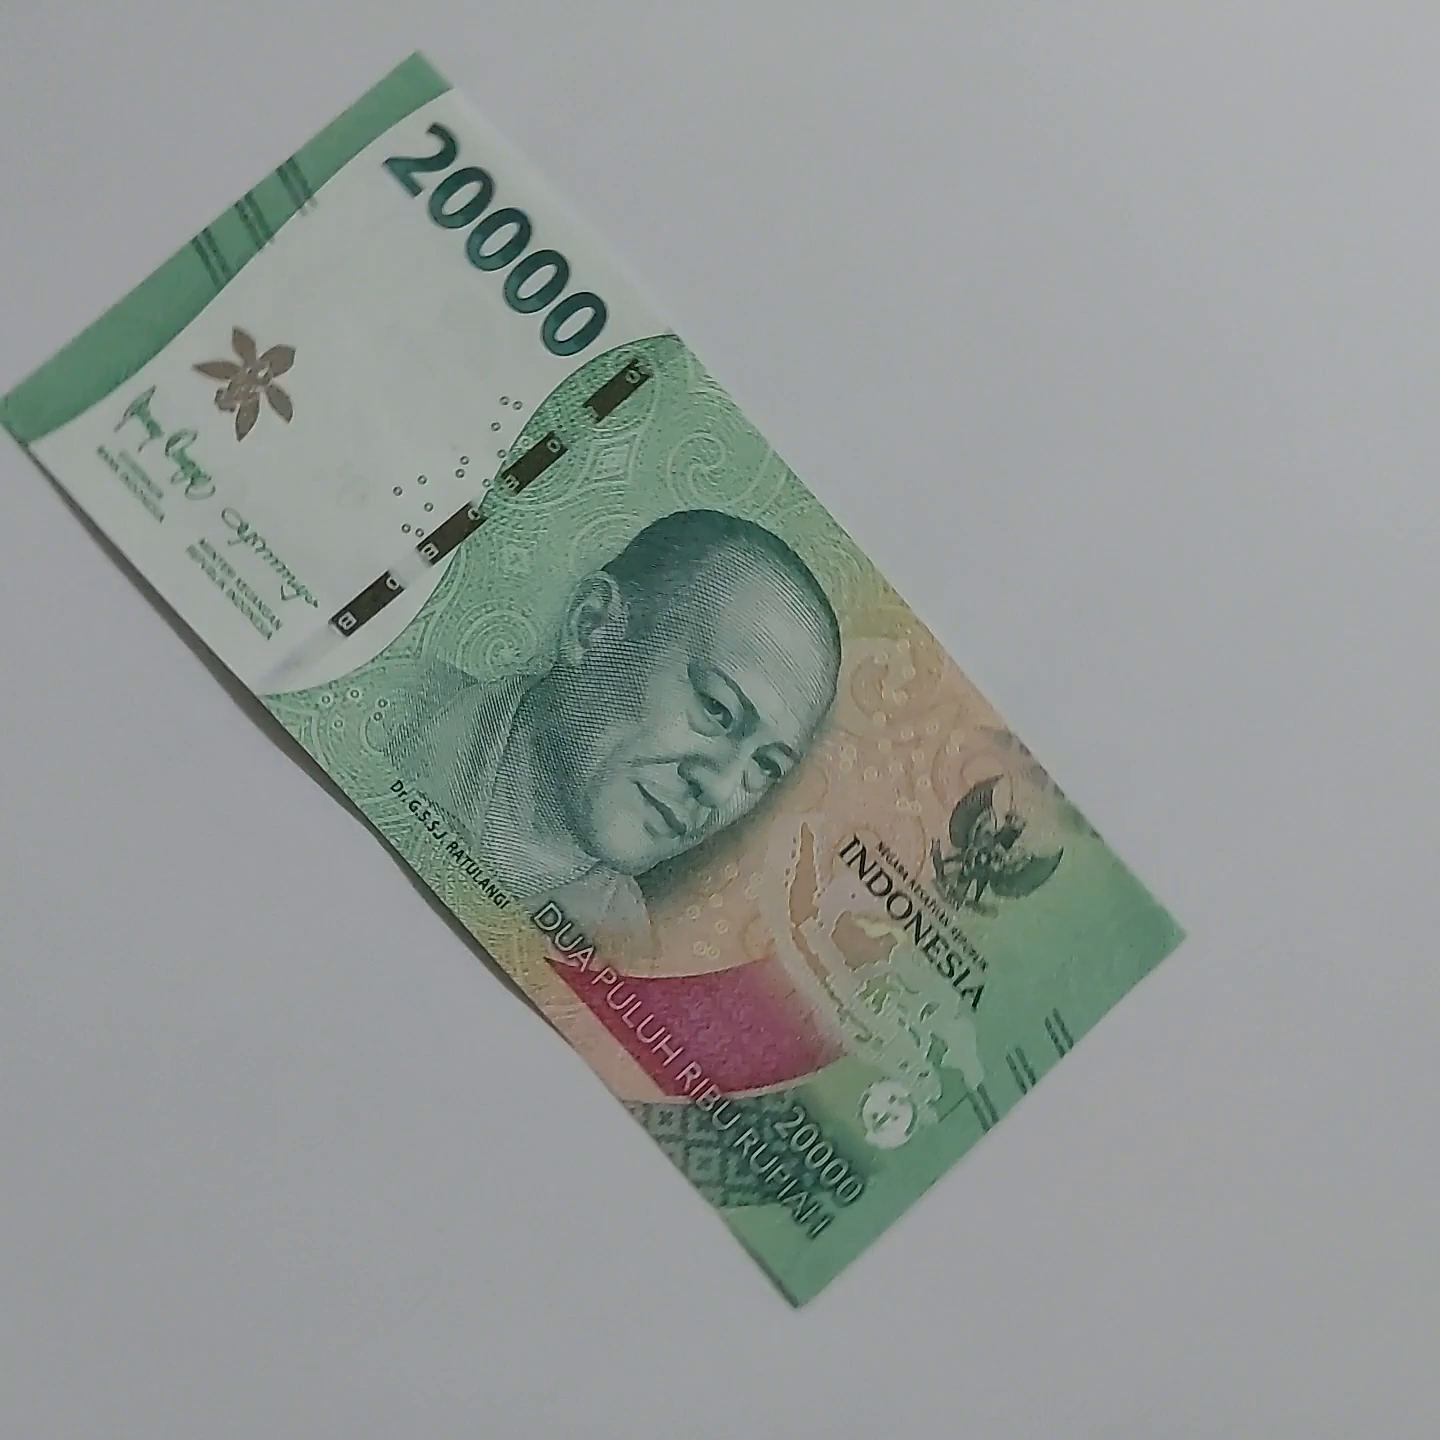20k: (21, 22, 1182, 1303)
